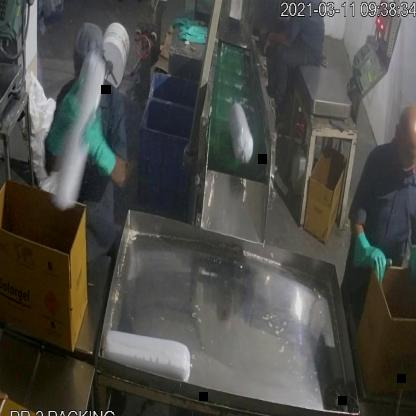glove: (347, 222, 394, 288), (82, 102, 119, 182), (404, 227, 416, 294)
